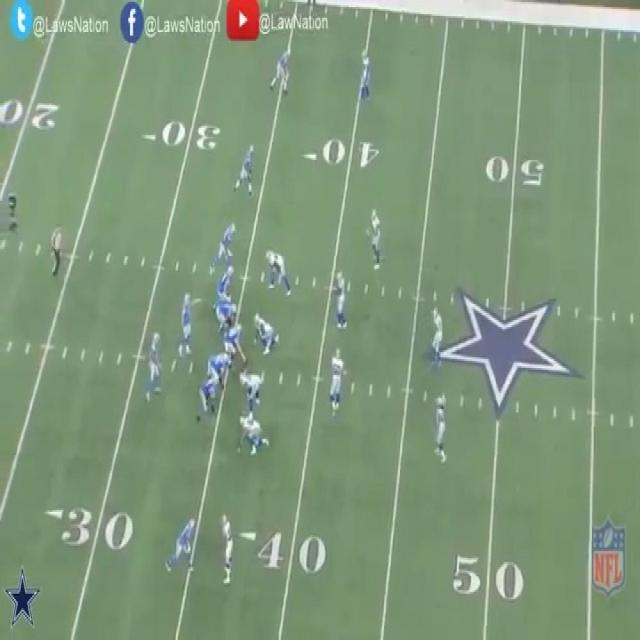center: (226, 322, 246, 362)
db: (219, 516, 237, 580), (432, 397, 448, 462), (431, 309, 442, 361), (360, 50, 368, 98)
lb: (330, 270, 348, 330), (366, 208, 381, 266), (331, 345, 342, 409)
qb: (181, 293, 193, 352)
